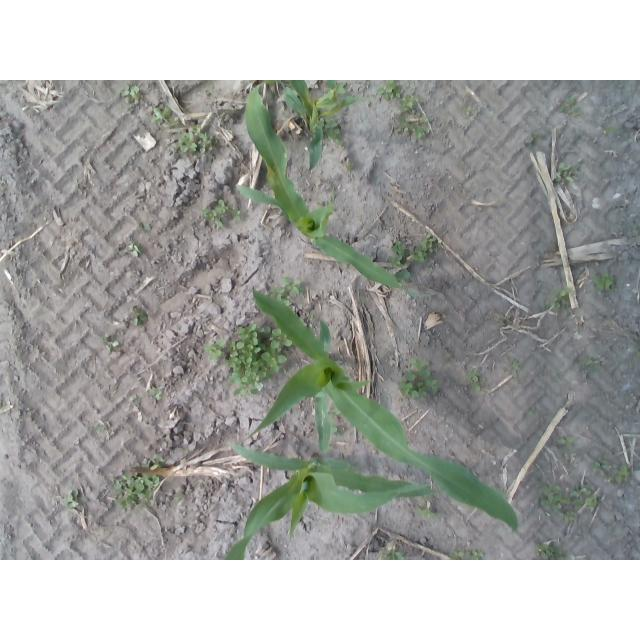Maize: (250, 287, 518, 534), (236, 82, 436, 298), (224, 441, 439, 560), (275, 81, 363, 171)
Weeds: (230, 322, 267, 394), (116, 474, 161, 507), (203, 199, 231, 227), (262, 347, 285, 373), (377, 81, 403, 99), (538, 543, 564, 560), (206, 338, 227, 358), (594, 271, 614, 291), (541, 496, 564, 513), (553, 289, 571, 310), (281, 279, 304, 294), (179, 133, 197, 152), (132, 306, 149, 326), (61, 489, 78, 508), (410, 358, 430, 374), (266, 329, 282, 348), (560, 98, 577, 115), (396, 260, 410, 280), (402, 94, 418, 111), (615, 465, 630, 483), (400, 374, 415, 392), (570, 486, 590, 499), (392, 120, 408, 136), (412, 123, 429, 138), (199, 135, 213, 153), (411, 382, 426, 398), (125, 85, 140, 101), (325, 122, 339, 139), (560, 163, 573, 181), (152, 108, 170, 121), (424, 233, 436, 252), (582, 357, 597, 371), (393, 240, 407, 255), (417, 509, 436, 520), (102, 335, 118, 348), (561, 498, 584, 507), (545, 484, 559, 498), (383, 552, 404, 561), (414, 247, 427, 261), (559, 435, 576, 445), (150, 388, 163, 401), (467, 550, 483, 560), (426, 380, 438, 393), (274, 287, 287, 299), (128, 245, 141, 257), (231, 209, 242, 223), (528, 135, 545, 144), (468, 376, 480, 388), (595, 458, 606, 471), (193, 124, 204, 137), (163, 117, 177, 127), (564, 512, 576, 523), (152, 454, 164, 465), (451, 552, 465, 561), (389, 255, 404, 263), (100, 421, 111, 431), (332, 426, 344, 435), (418, 114, 430, 123), (139, 224, 152, 232), (329, 409, 339, 419), (586, 496, 598, 504), (335, 139, 344, 149), (346, 162, 355, 171), (606, 127, 615, 135), (529, 407, 536, 417), (514, 362, 521, 371), (466, 106, 471, 115)
